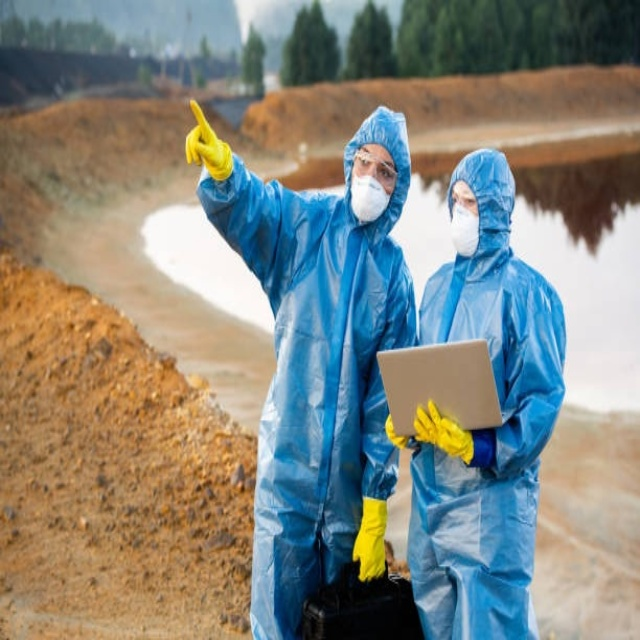Gafas: (354, 151, 398, 189), (451, 190, 478, 213)
Guantes: (415, 398, 475, 465), (185, 101, 233, 183), (353, 496, 388, 582), (385, 412, 414, 451)
Mascara: (350, 172, 391, 224), (449, 204, 480, 257)
